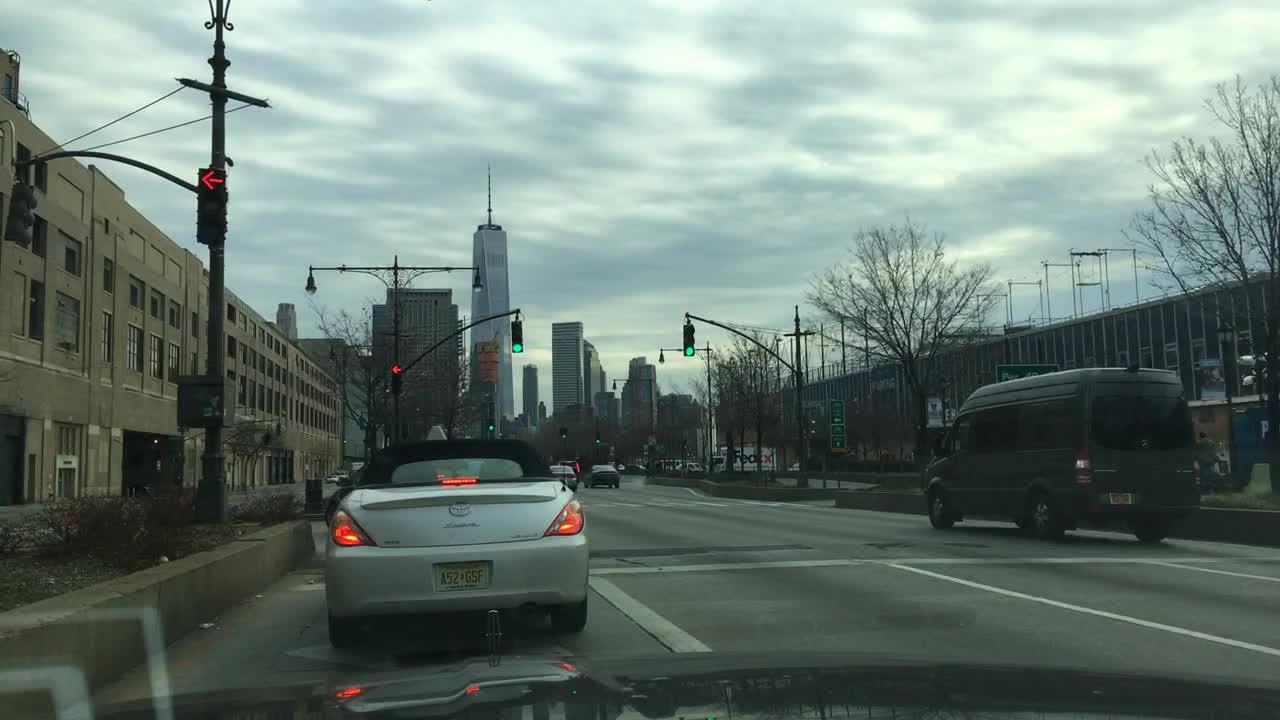car: (317, 425, 594, 642), (919, 361, 1201, 545), (582, 465, 622, 489), (550, 462, 580, 489), (558, 460, 582, 479), (654, 457, 675, 469), (622, 462, 643, 474), (606, 460, 624, 472), (678, 462, 703, 470)
traffic light: (195, 163, 224, 244), (6, 185, 37, 254), (509, 318, 521, 354), (681, 322, 693, 356), (390, 361, 401, 394), (592, 430, 597, 447), (487, 418, 492, 435), (560, 426, 565, 442)
traffic sign: (997, 364, 1056, 381), (928, 394, 943, 428), (830, 423, 845, 452), (827, 398, 843, 421)
truck: (705, 443, 776, 479)
